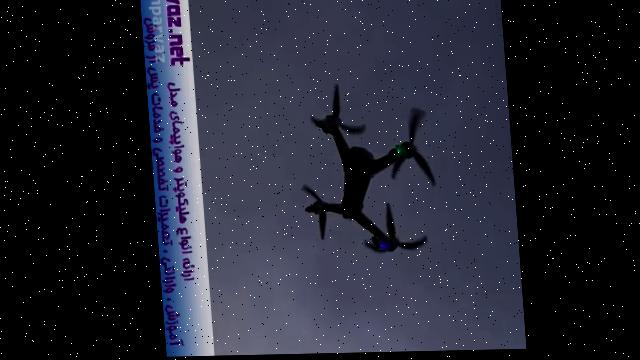drone: (291, 77, 443, 259)
